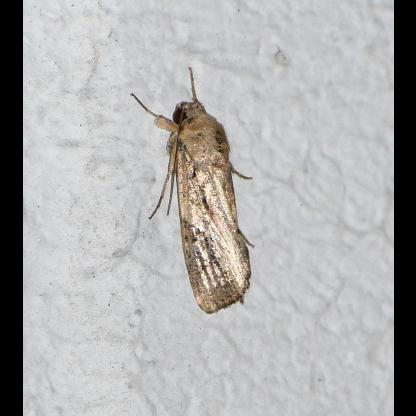Fall Armyworm Moth: (128, 64, 257, 316)
